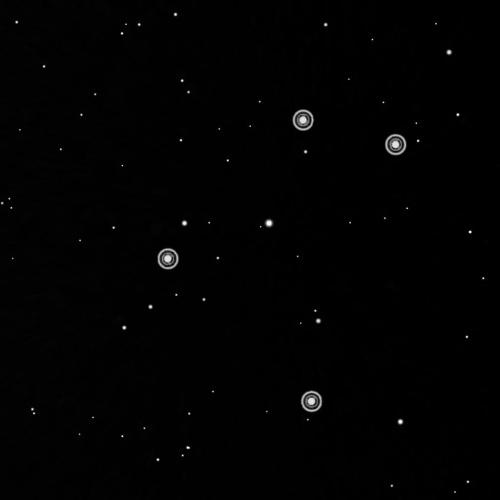coma_berenices: (150, 95, 420, 419)
